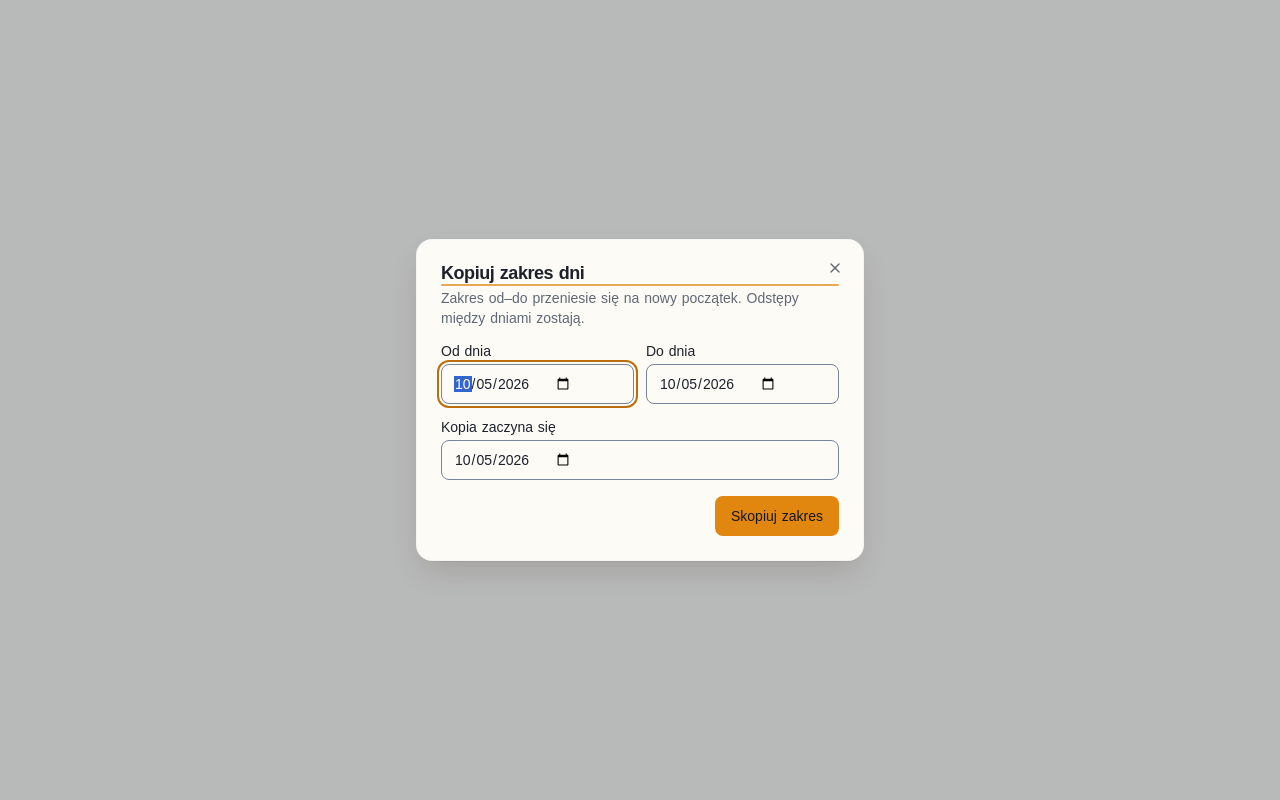
it: okno kopiowania zakresu (4.2) › nie pozwala skopiować, gdy „do” jest przed „od”
This screenshot has width=1280, height=800.
Type "2026-10-01" into the date field labelled "Do dnia" at (742, 384), box [646,364,839,404]
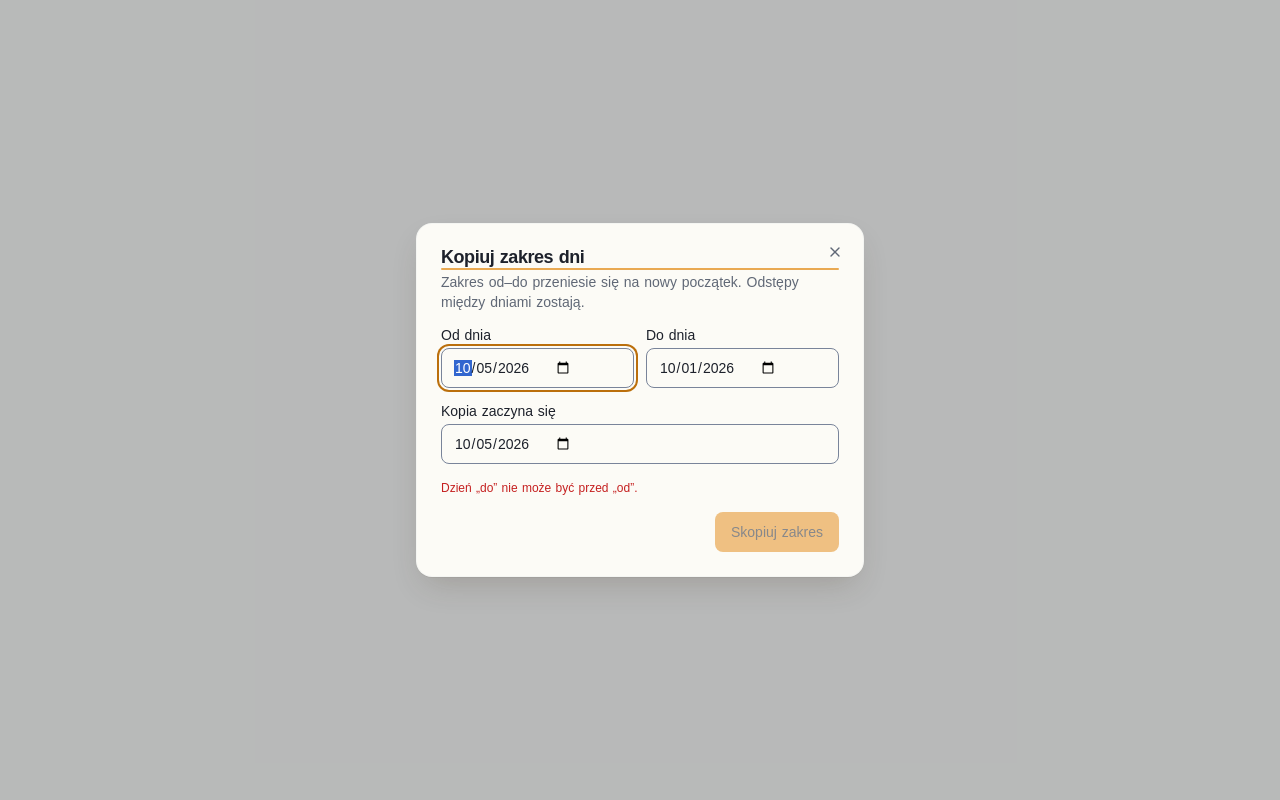
Expected: the button "Skopiuj zakres" is disabled, [715,512,839,552]
Expected: the text "Dzień „do” nie może być przed „od”." is shown, [441,481,638,495]
